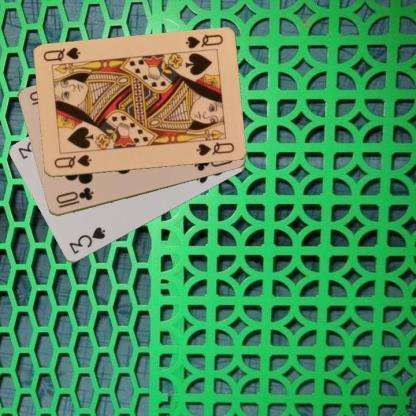10c: (54, 185, 94, 210)
3s: (66, 225, 107, 256)
Qs: (182, 31, 224, 50), (50, 152, 92, 170)
